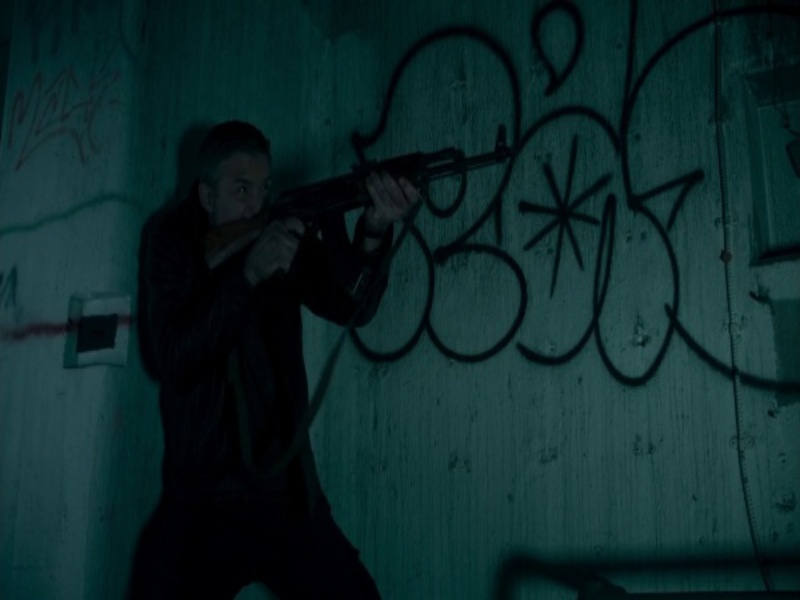person: (132, 121, 424, 598)
weapon: (197, 123, 511, 292)
